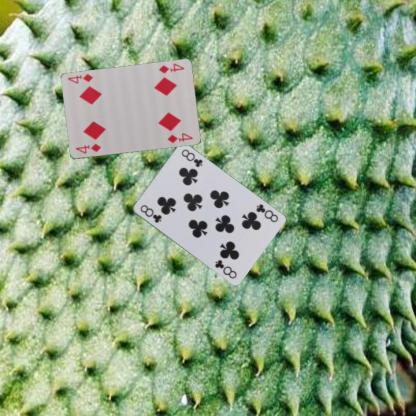4d: (72, 141, 102, 155), (156, 61, 185, 75)
8c: (253, 201, 279, 224), (137, 202, 163, 224)
